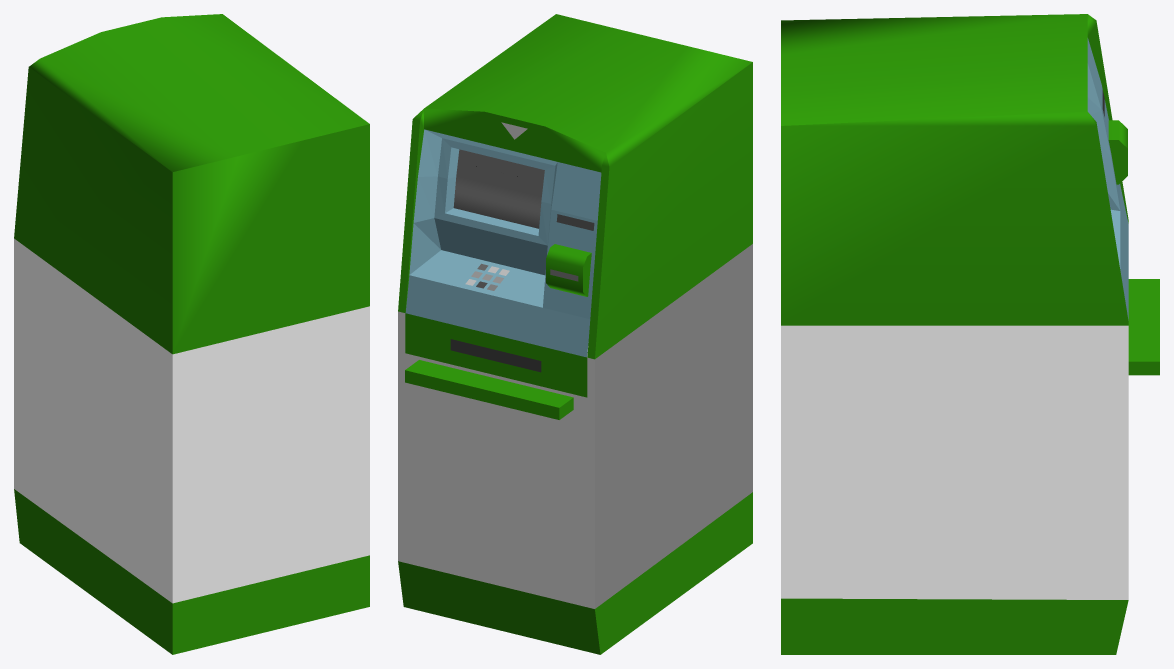
File: atm.dae
The picture shows the model from 3 angles, left to right: view 1: azimuth 30°, elevation 25°; view 2: azimuth 150°, elevation 25°; view 3: azimuth 270°, elevation 25°; orthographic projection. The views are drawn at different scales.
Visible parts, largest first — view 1: 9.0.242.0_Pts_Material_(1)_Surf, 9.0.242.0_Pts_Material_(2)_Surf; view 2: 9.0.242.0_Pts_Material_(1)_Surf, 9.0.242.0_Pts_Material_(2)_Surf, 9.0.242.0_Pts_Material_(4)_Surf, 9.0.242.0_Pts_Material_(3)_Surf; view 3: 9.0.242.0_Pts_Material_(1)_Surf, 9.0.242.0_Pts_Material_(2)_Surf, 9.0.242.0_Pts_Material_(4)_Surf.
Part boxes in pixels (x1=…): 9.0.242.0_Pts_Material_(1)_Surf: x1=14, y1=14, x2=369, y2=654; 9.0.242.0_Pts_Material_(2)_Surf: x1=14, y1=238, x2=369, y2=603; 9.0.242.0_Pts_Material_(1)_Surf: x1=398, y1=14, x2=752, y2=654; 9.0.242.0_Pts_Material_(2)_Surf: x1=398, y1=122, x2=752, y2=608; 9.0.242.0_Pts_Material_(4)_Surf: x1=405, y1=129, x2=601, y2=357; 9.0.242.0_Pts_Material_(3)_Surf: x1=450, y1=149, x2=594, y2=372; 9.0.242.0_Pts_Material_(1)_Surf: x1=781, y1=14, x2=1159, y2=654; 9.0.242.0_Pts_Material_(2)_Surf: x1=781, y1=325, x2=1128, y2=599; 9.0.242.0_Pts_Material_(4)_Surf: x1=1087, y1=38, x2=1128, y2=320.
Size of the model in its own units: 8.35 by 20.35 by 12.66.
